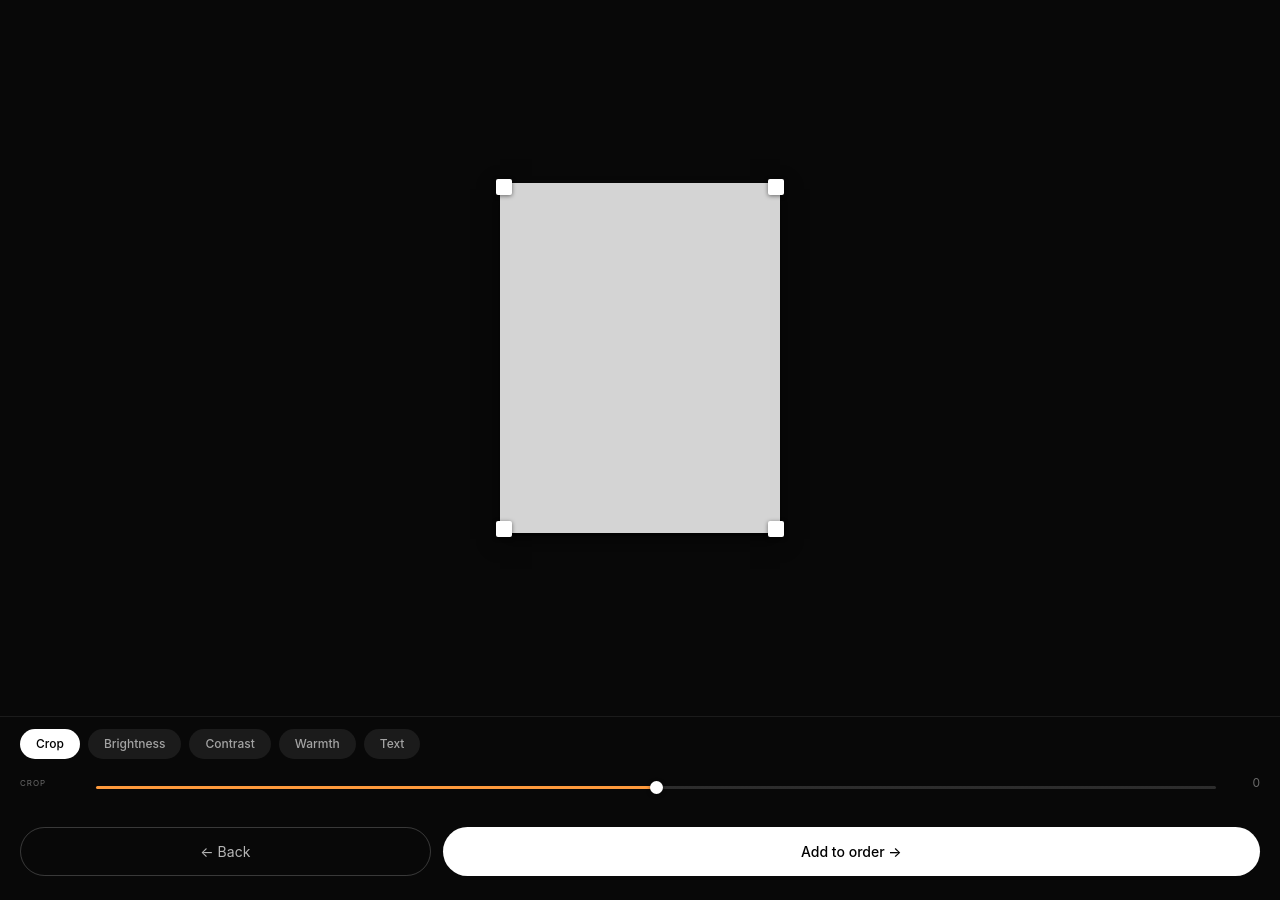
Scenario: EditorScreen › switches to text input when Text chip is tapped
Click the button with test id "tool-text".
click(392, 744)  # box [364, 729, 420, 759]
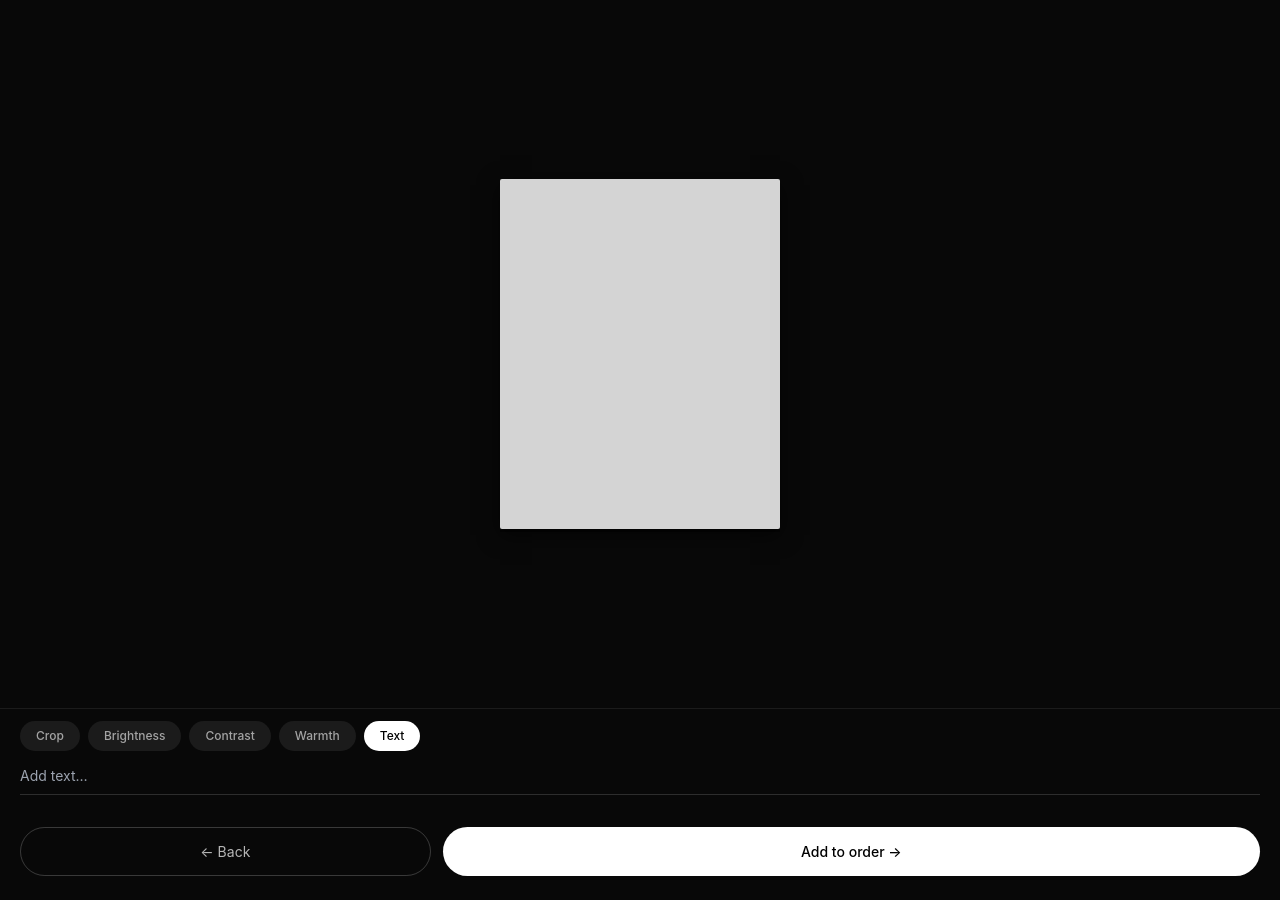
Check: the field with test id "text-input" is shown, box [20, 765, 1260, 795]
